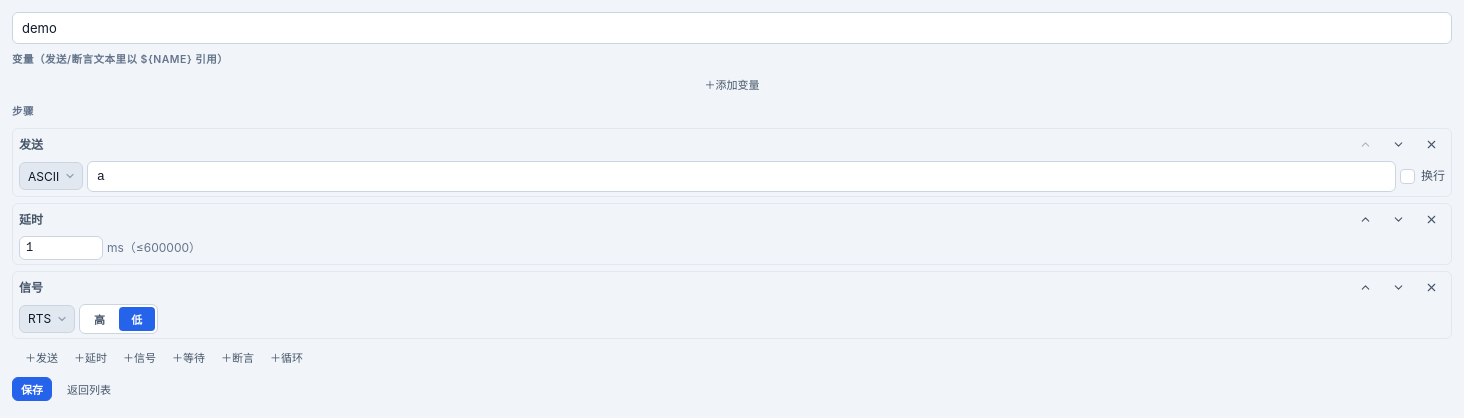
Test: ScenarioEditor（步骤树编辑） › 上移/下移重排（按钮=键盘可达）
第二行（延时）上移 → [延时, 发送, 信号]
Click the button named "上移步骤 1（延时）" at (1366, 220), box [1350, 208, 1381, 232]
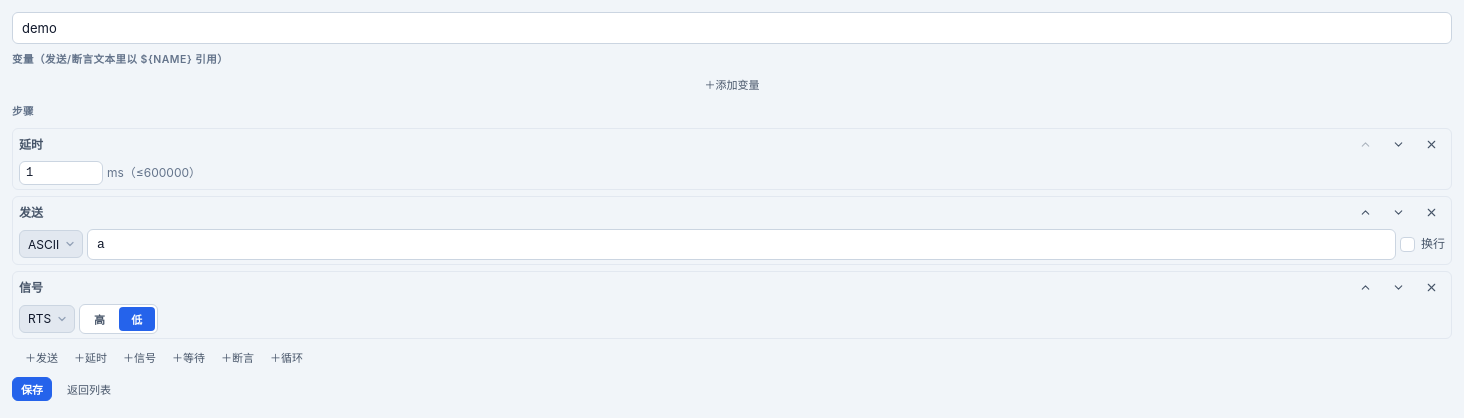
Expected: the button named "上移步骤 0（延时）" is disabled, [1350, 132, 1381, 156]
Result: the text "延时" is shown at [19, 136, 43, 154]
Click the button named "下移步骤 0（延时）" at (1398, 144), box [1383, 132, 1414, 156]
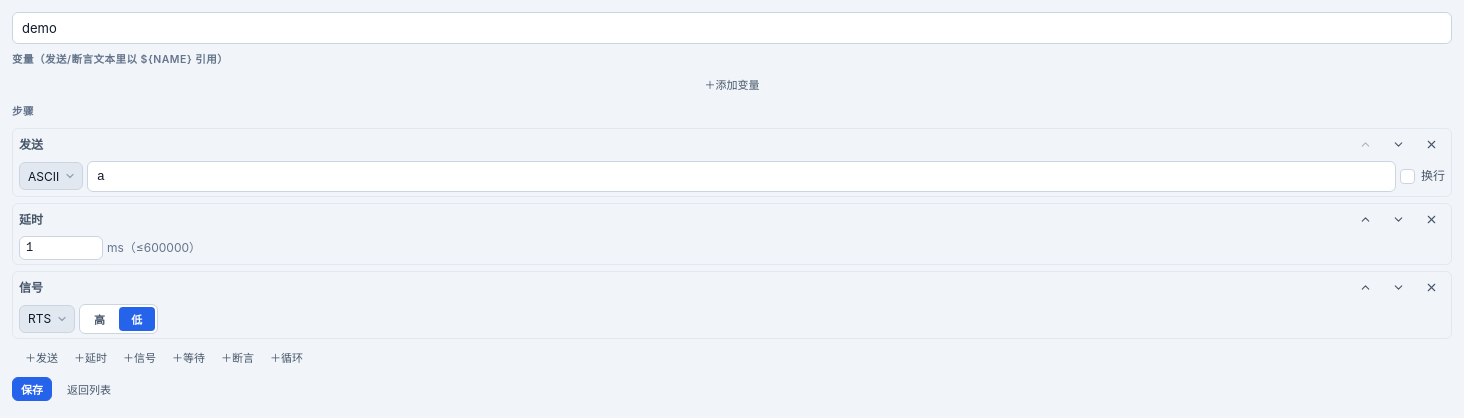
Result: the text "发送" is shown at [19, 136, 43, 154]
